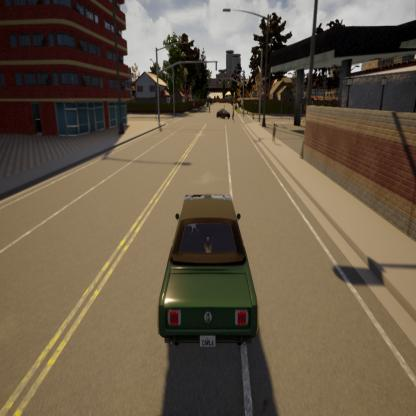Cars: (159, 194, 258, 349), (216, 108, 230, 120)
Pedestrian: (272, 122, 276, 143), (232, 106, 235, 122), (209, 103, 210, 114)
